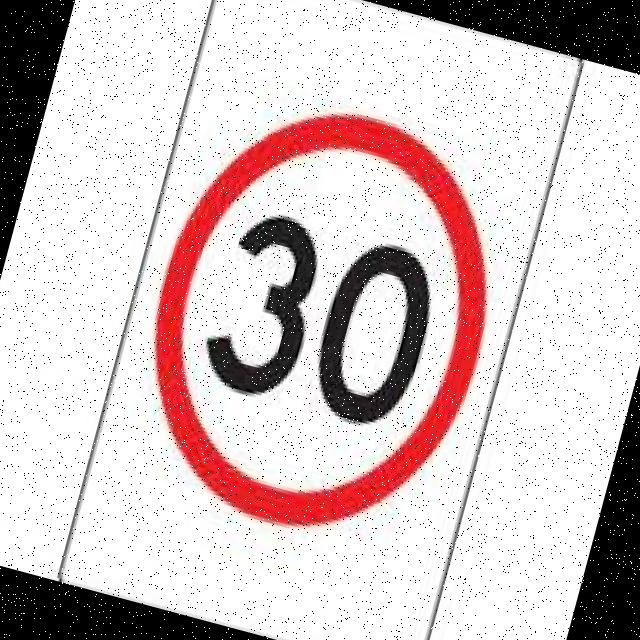speed_limit_30: (107, 72, 536, 570)
